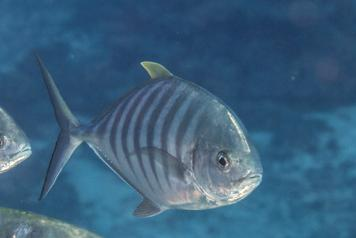Carangidae -Jacks-: (26, 45, 265, 225)
